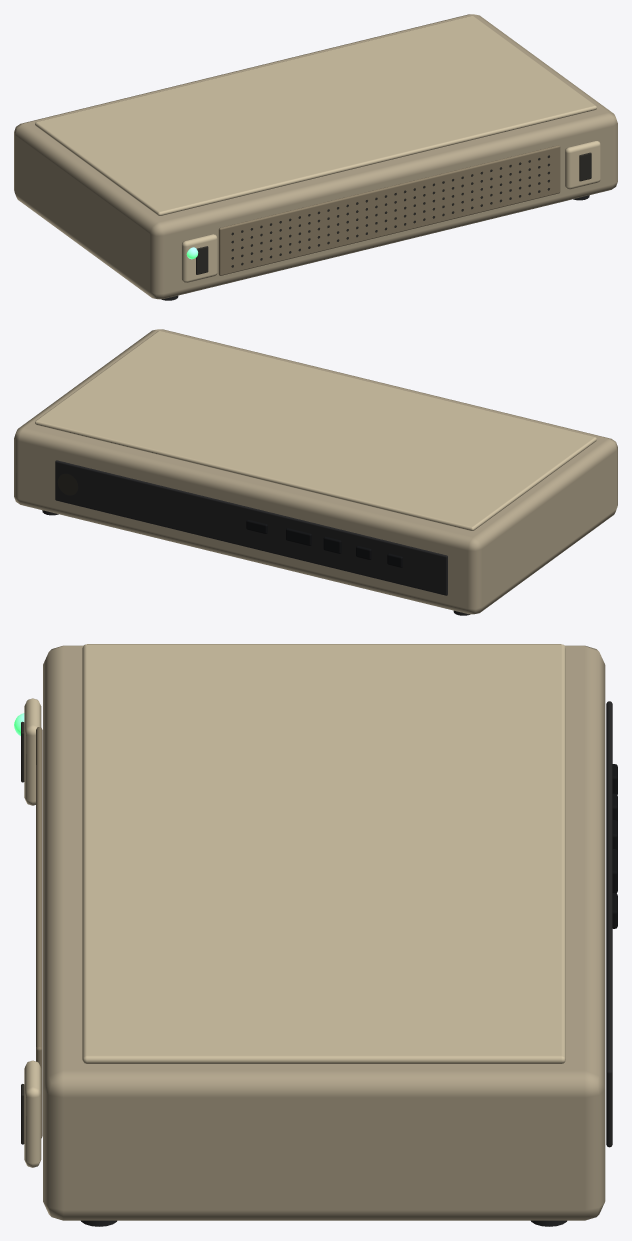
Rendered from goagent-spark-solo.glb.
3 views of the same model, one above another, from view 1: azimuth 30°, elevation 25°; view 2: azimuth 150°, elevation 25°; view 3: azimuth 270°, elevation 25° (orthographic). The views are drawn at different scales.
Visible parts, largest first — view 1: SparkSolo_TopPanel, SparkSolo_Chassis, SparkSolo_FrontGrille, SparkSolo; view 2: SparkSolo_TopPanel, SparkSolo_Chassis, SparkSolo_RearPanel, SparkSolo; view 3: SparkSolo_TopPanel, SparkSolo_Chassis, SparkSolo, SparkSolo_RearPanel, SparkSolo_FrontGrille.
Boxes of the visible parts, x1,y1,x2,y2 form: SparkSolo_TopPanel: [35, 16, 596, 215]; SparkSolo_Chassis: [14, 14, 617, 299]; SparkSolo_FrontGrille: [218, 145, 560, 275]; SparkSolo: [181, 141, 600, 282]; SparkSolo_TopPanel: [35, 331, 596, 530]; SparkSolo_Chassis: [14, 329, 617, 614]; SparkSolo_RearPanel: [55, 460, 447, 595]; SparkSolo: [246, 519, 402, 567]; SparkSolo_TopPanel: [82, 644, 565, 1063]; SparkSolo_Chassis: [43, 645, 605, 1220]; SparkSolo: [21, 698, 617, 1167]; SparkSolo_RearPanel: [606, 701, 612, 1147]; SparkSolo_FrontGrille: [36, 727, 42, 1138].
Bounding box in the file's own units: 4.05 × 0.746 × 2.34.
